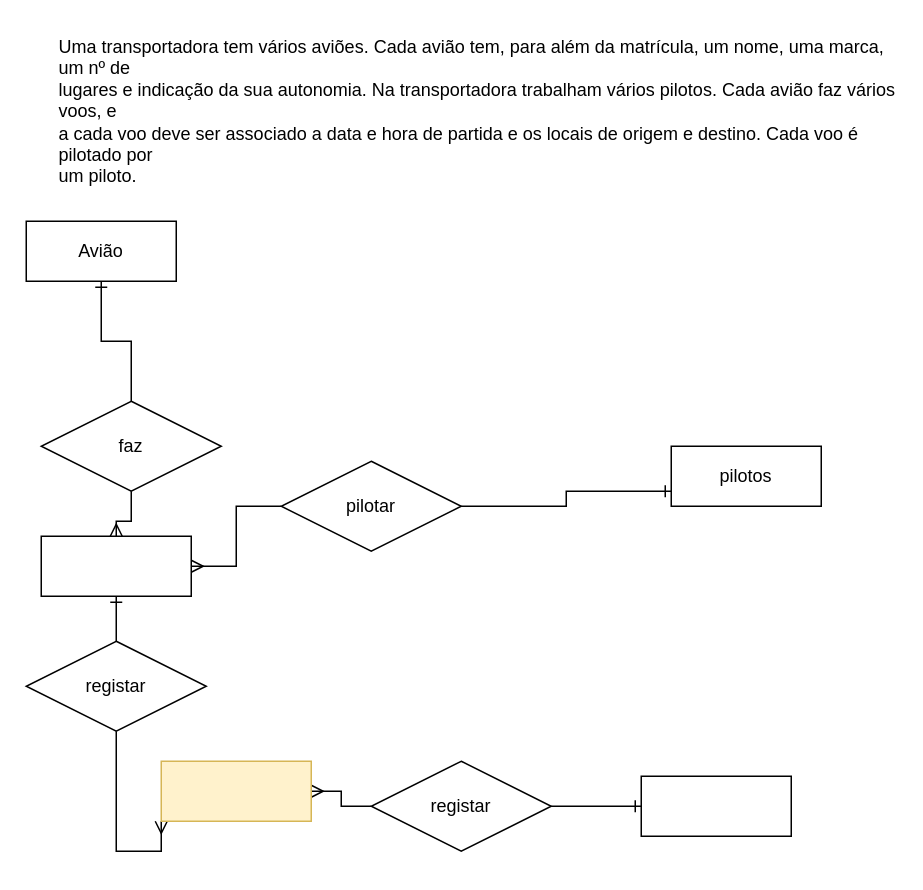
Image size: 923x890. Some labels were removed from this diagram. Each missing label, with the centre of its shape:
locais: [715,805]
voos: [115,565]
voosLocais: [235,790]
